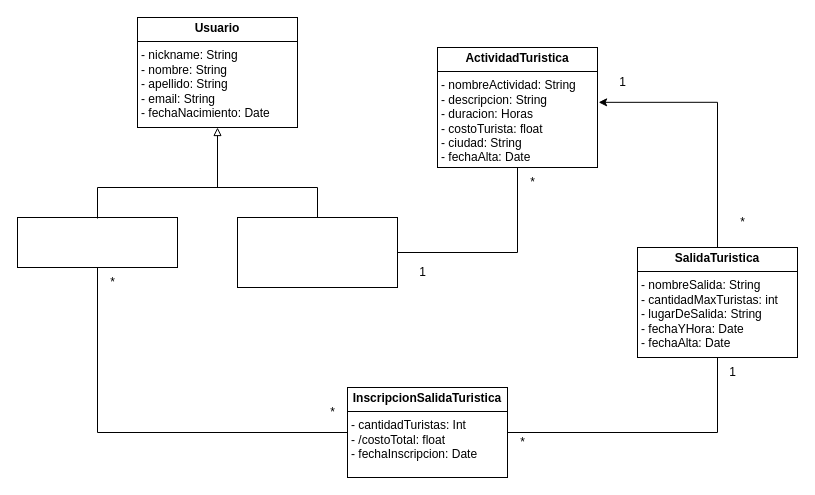
Image size: 815x495. Some labels were removed from this diagram. Here are the shapes that lost their labels. From the top down, the centre of each, then its label:
point (97, 242): Turista - nacionalidad: String
point (317, 252): Proveedor - descripcion: String - sitioWeb: URL
